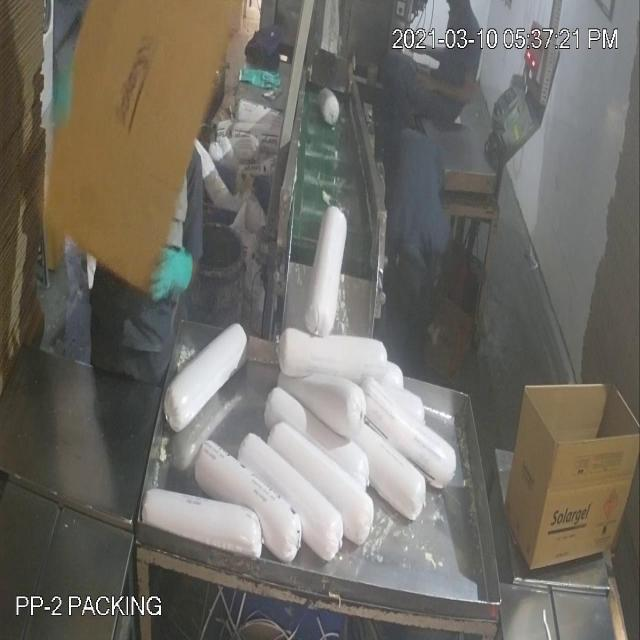No_Gloves: (414, 60, 478, 118)
